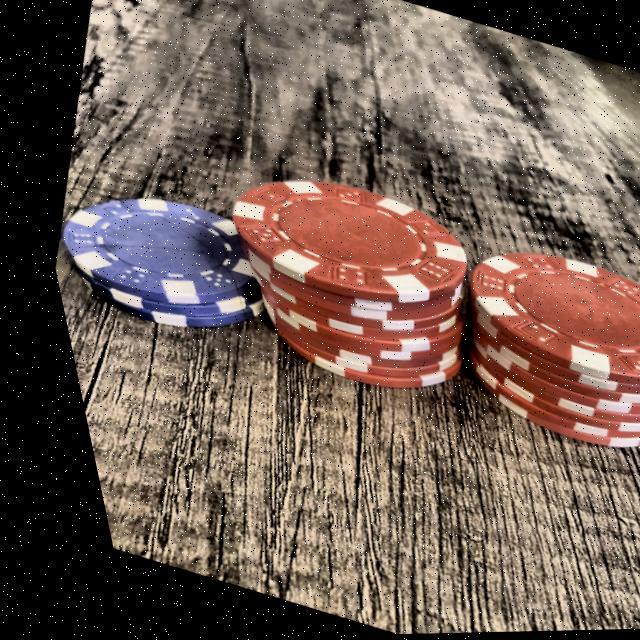Chip: (165, 129, 521, 426), (388, 198, 640, 495), (26, 152, 290, 361)
